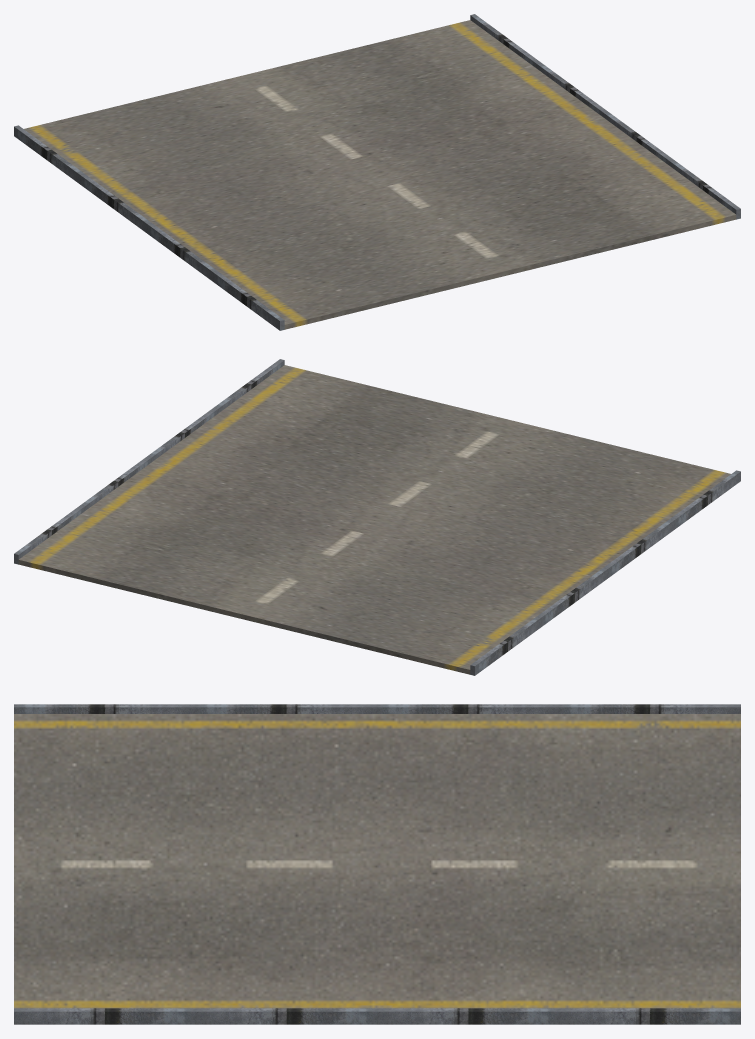
Rendered from Urban_Road1StraightSmallSides_Model.fbx.
3 views of the same model, one above another, from view 1: azimuth 30°, elevation 25°; view 2: azimuth 150°, elevation 25°; view 3: azimuth 270°, elevation 25° (orthographic). The views are drawn at different scales.
Visible parts, largest first — view 1: Urban_Road1StraightSmallSides_Mesh; view 2: Urban_Road1StraightSmallSides_Mesh; view 3: Urban_Road1StraightSmallSides_Mesh.
Part boxes in pixels (x1,y1,x2,y2): Urban_Road1StraightSmallSides_Mesh: (14,14,740,330); Urban_Road1StraightSmallSides_Mesh: (14,359,740,675); Urban_Road1StraightSmallSides_Mesh: (14,704,740,1024).
Size of the model in its own units: 16 by 0.32 by 16.
